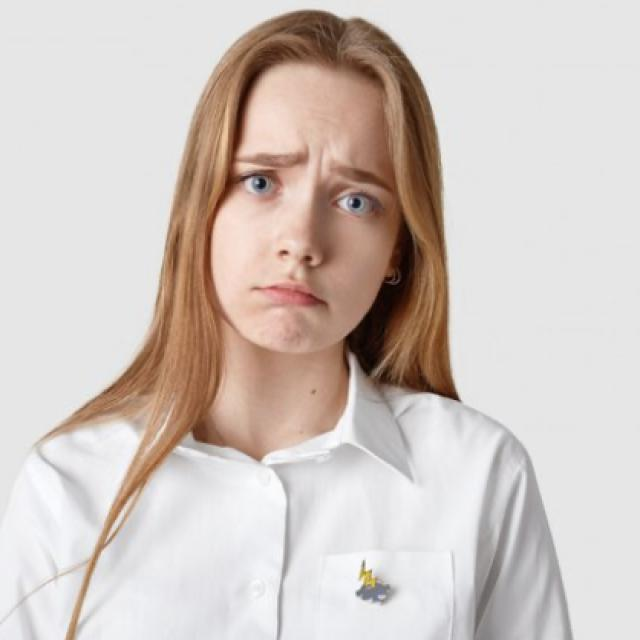sad: (184, 53, 417, 410)
